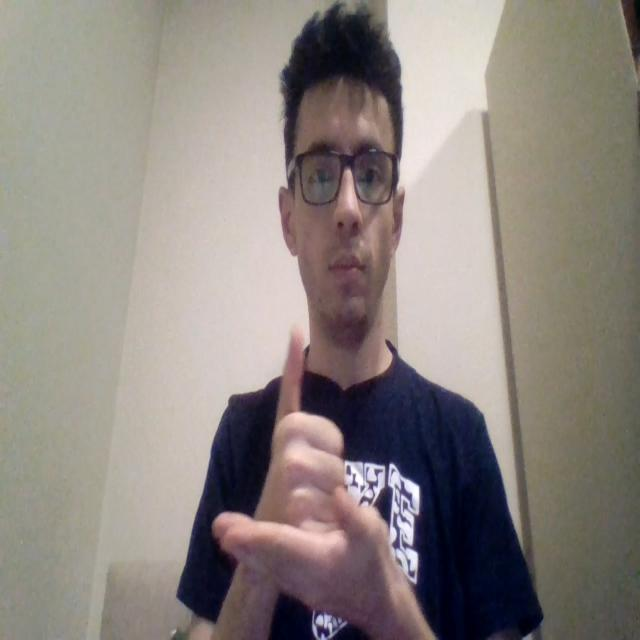help: (212, 329, 404, 618)
